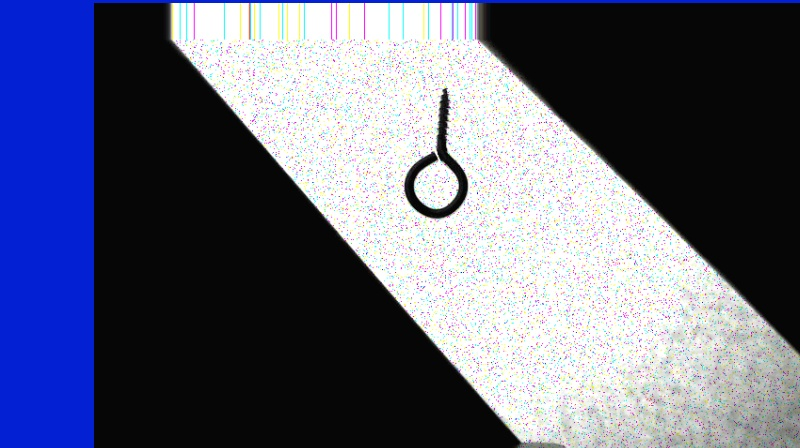O001: (399, 84, 470, 219)
